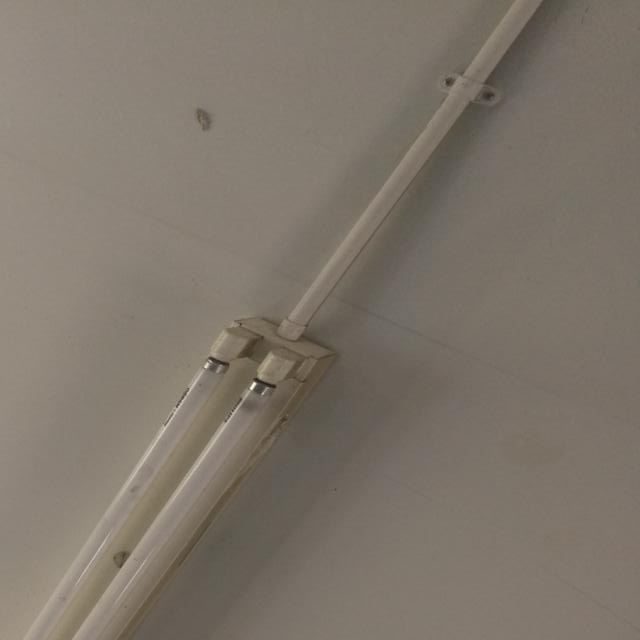fluorescent tube: (0, 279, 361, 640)
